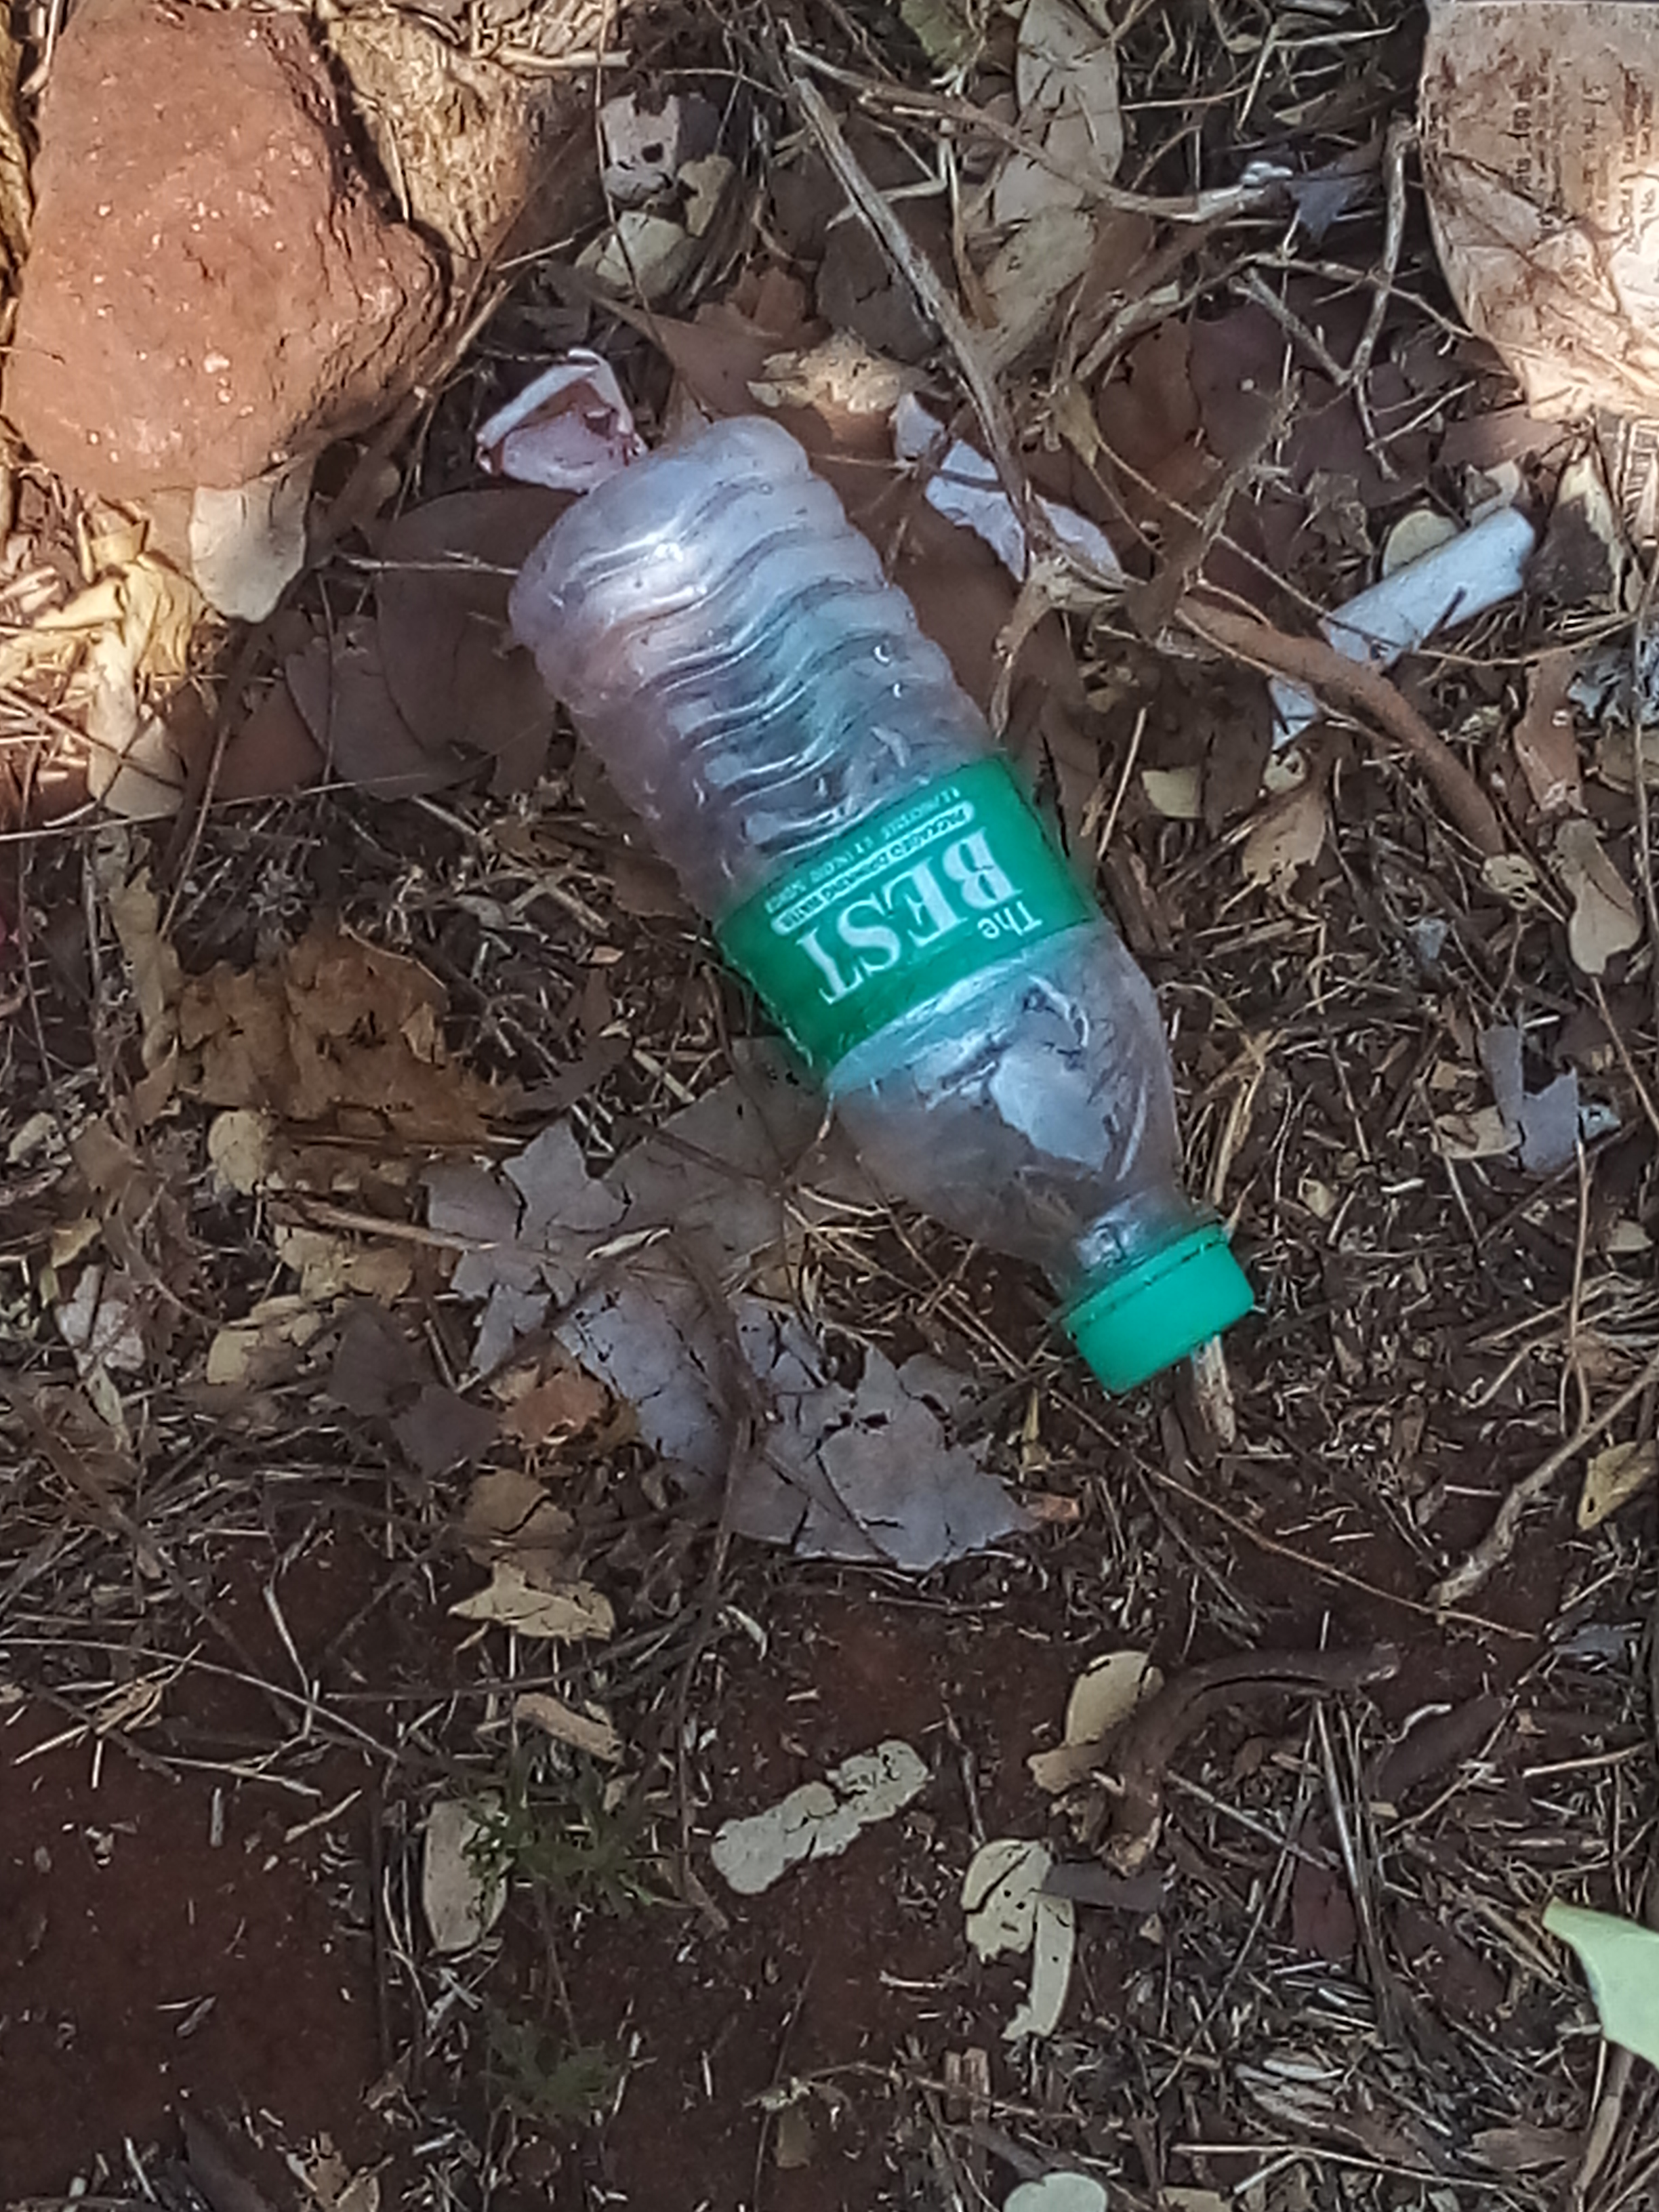bottle: (477, 401, 1309, 1369)
